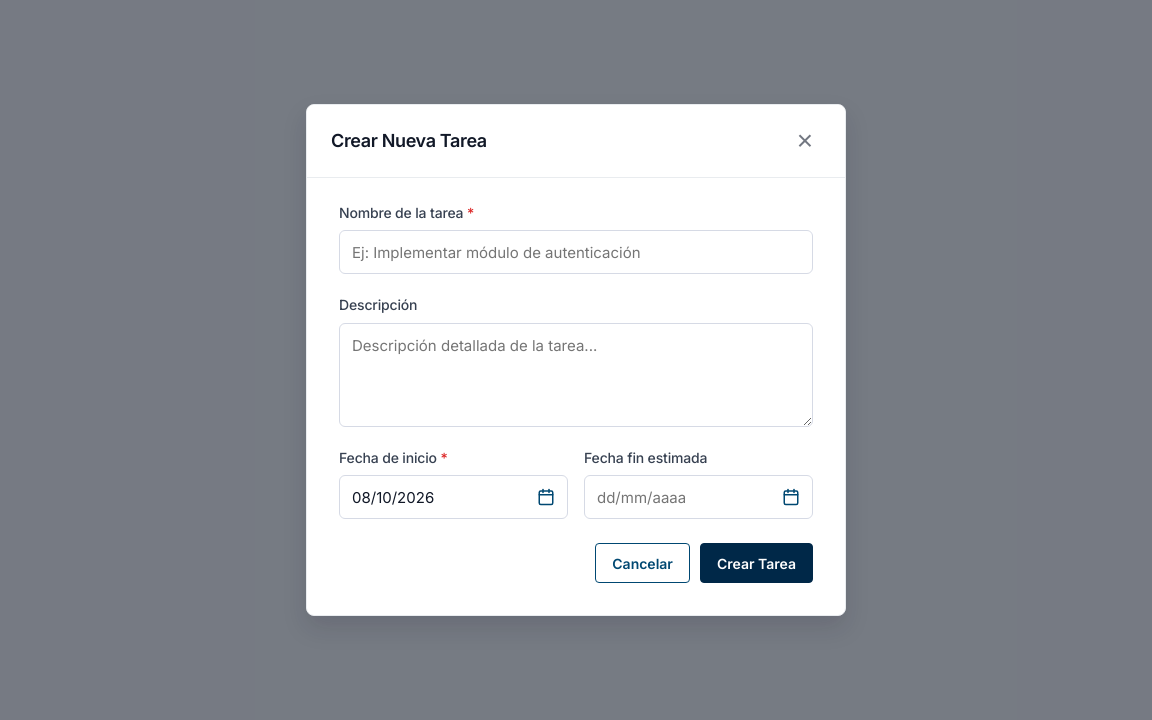
Test: TaskCreateModal › muestra un error si el backend rechaza la creacion
Type "Preparar informe" into the field with placeholder "Ej: Implementar módulo de autenticación". click: [576, 252]
box: left=339, top=230, right=813, bottom=274
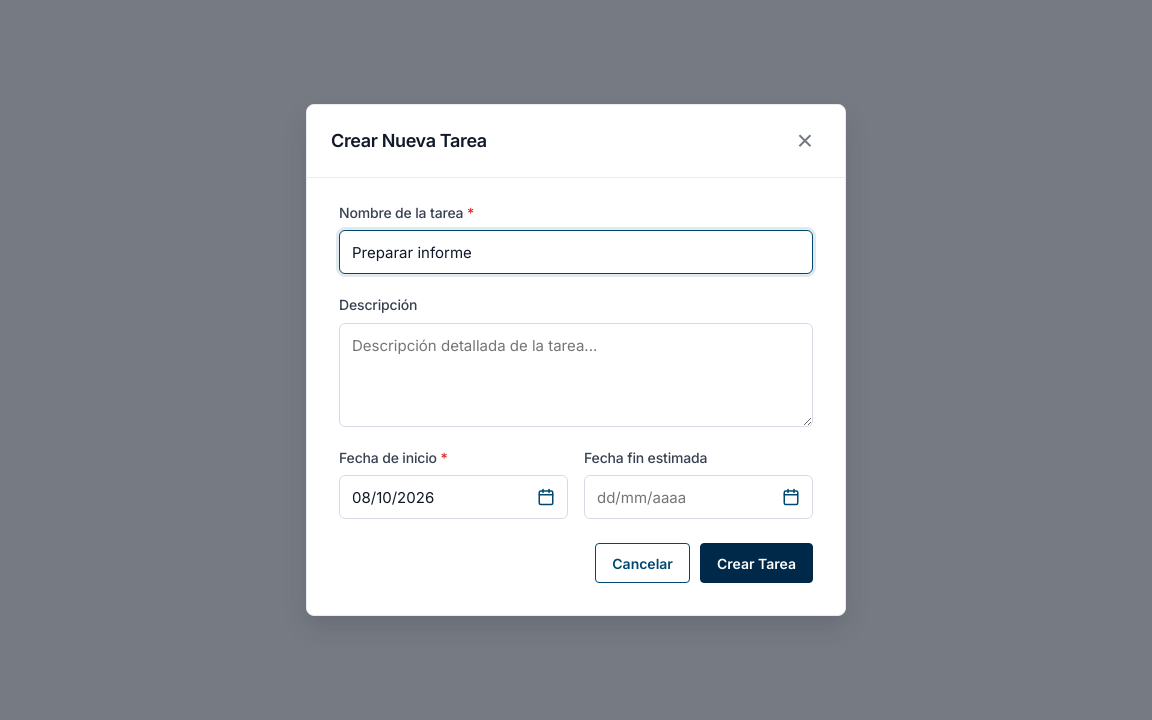
Click the button "Crear Tarea". click: [756, 563]
box: left=700, top=543, right=813, bottom=583
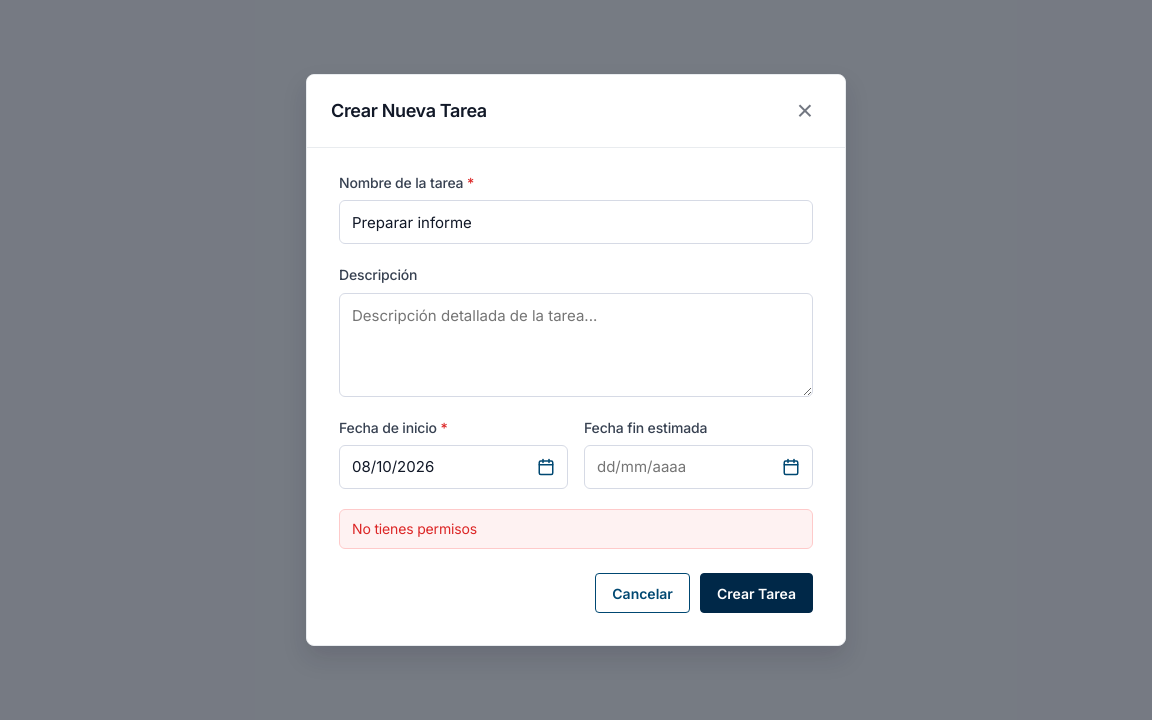
Expected: the message reads "No tienes permisos", left=352, top=520, right=477, bottom=537
